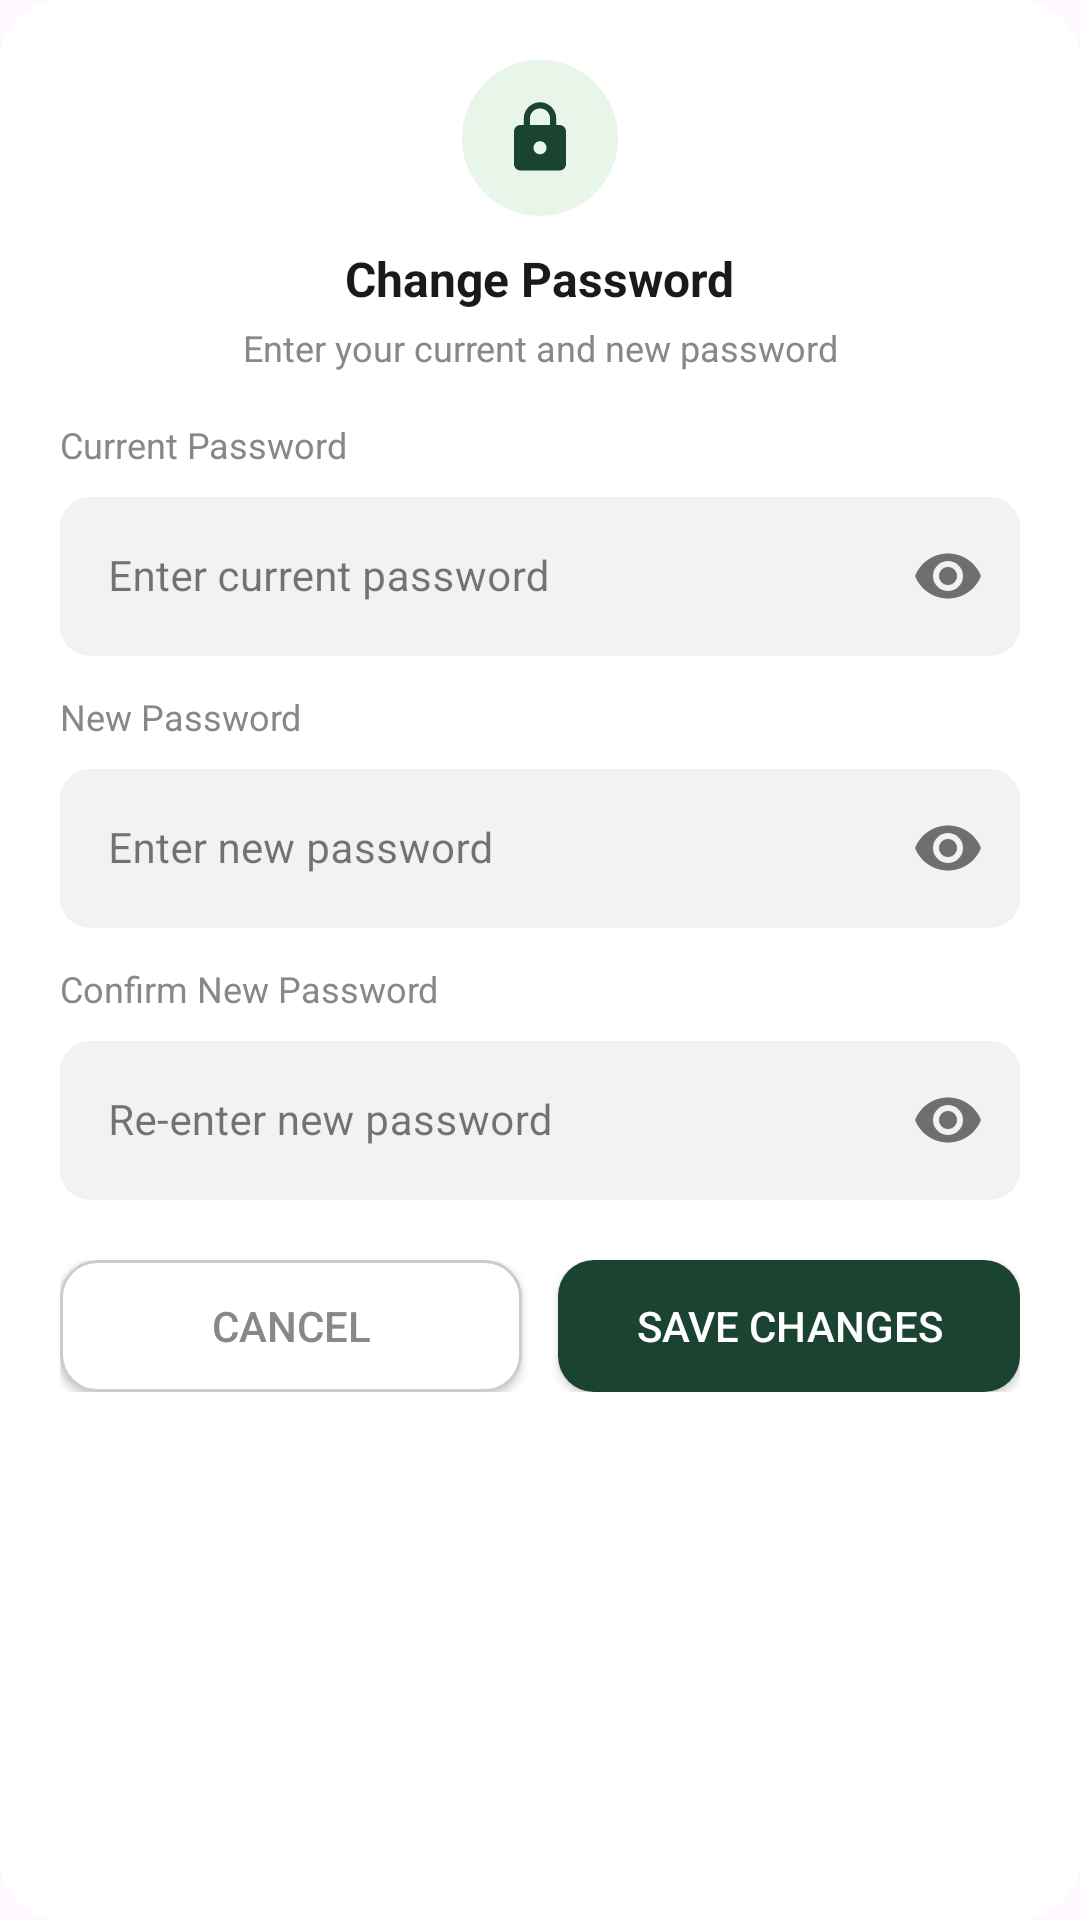

Screen size 1080x1920. Icon name, then its center in pixels as (x=x, y=y):
lock: (x=540, y=136)
